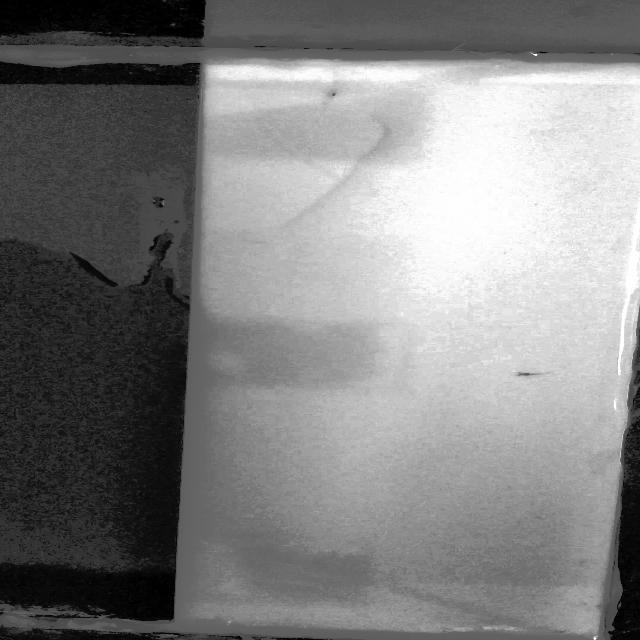shrimp: (512, 364, 556, 382), (322, 84, 344, 104), (546, 625, 575, 637)
